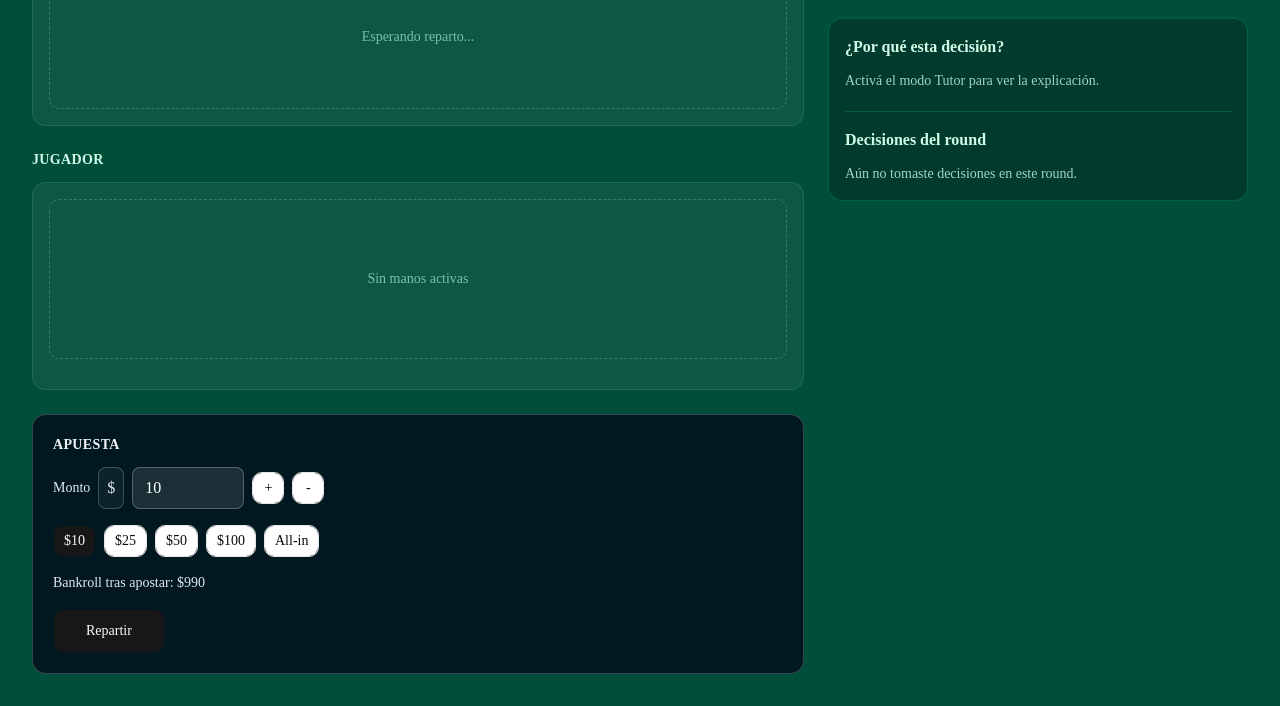
Test: Table › shows ActionControls only during playerTurn
The width and height of the screenshot is (1280, 706).
(page scrolled)
Expected: the button "Hit" is not shown
Click the button "Repartir": (109, 631) [53,609,165,653]
(page scrolled)
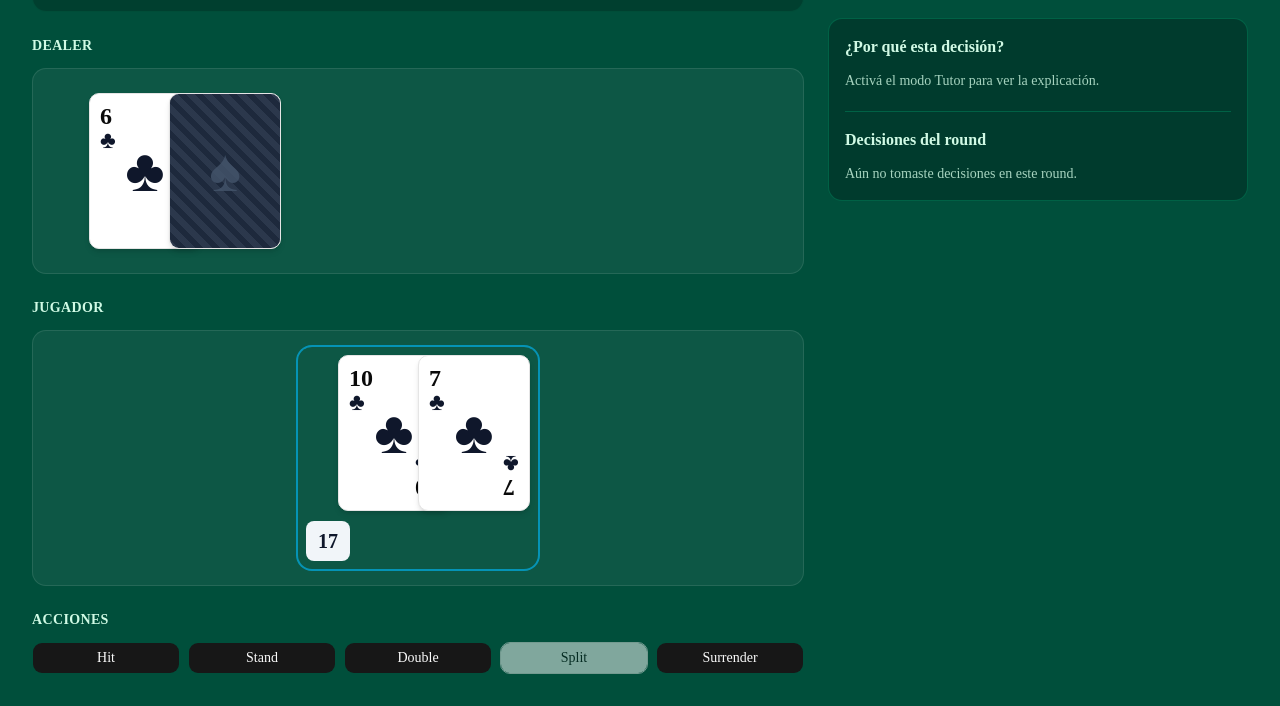
Now the button "Hit" is shown, box [32,642,180,674]
Click the button "Stand": (262, 658) [188,642,336,674]
(page scrolled)
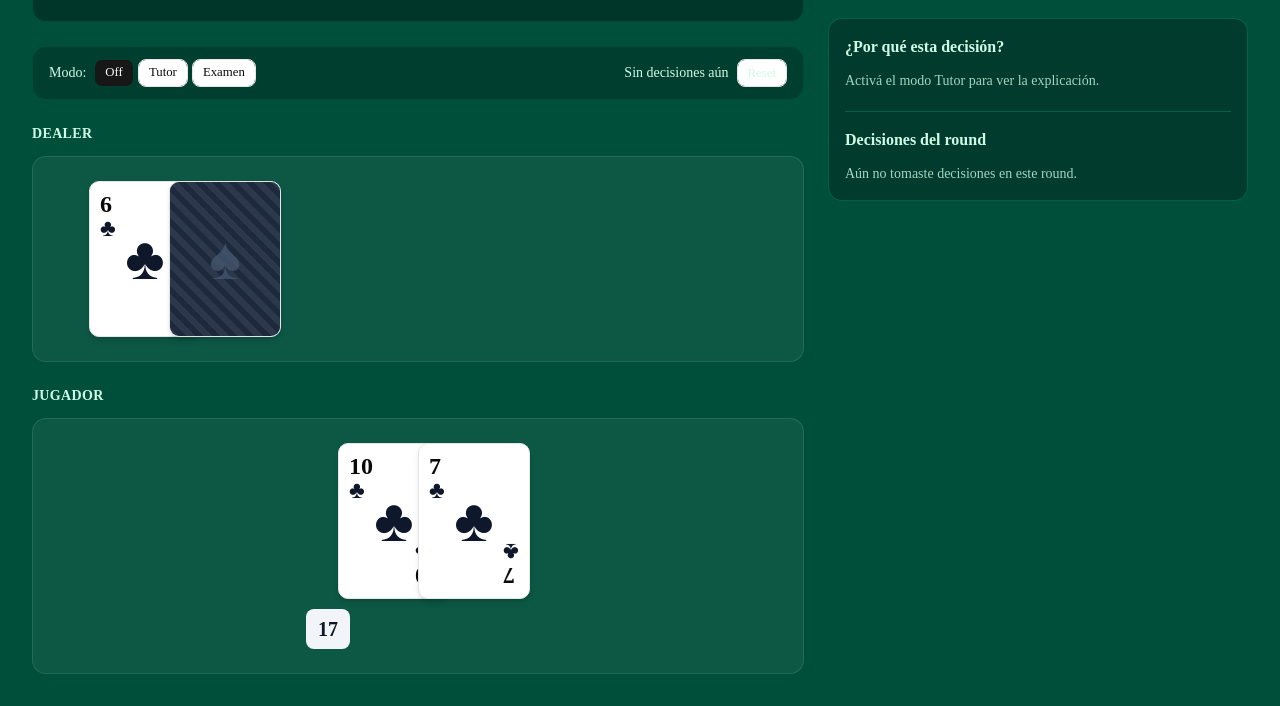
Now the button "Hit" is gone
